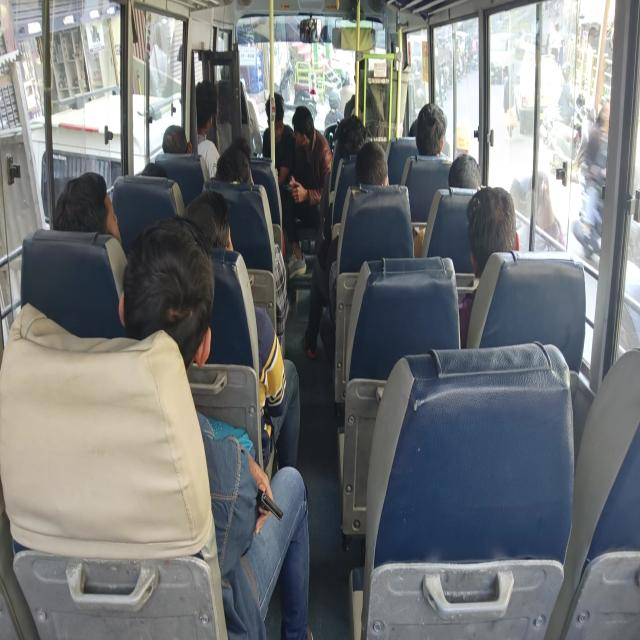person: (99, 228, 236, 366), (37, 149, 131, 243), (478, 198, 528, 266), (359, 144, 411, 204), (196, 190, 240, 246), (146, 149, 182, 198), (155, 112, 192, 156), (452, 156, 483, 208), (416, 95, 438, 168), (256, 94, 292, 136), (195, 82, 221, 130), (289, 98, 318, 140), (347, 113, 366, 158), (222, 151, 245, 186), (400, 103, 420, 131), (231, 134, 249, 158)
